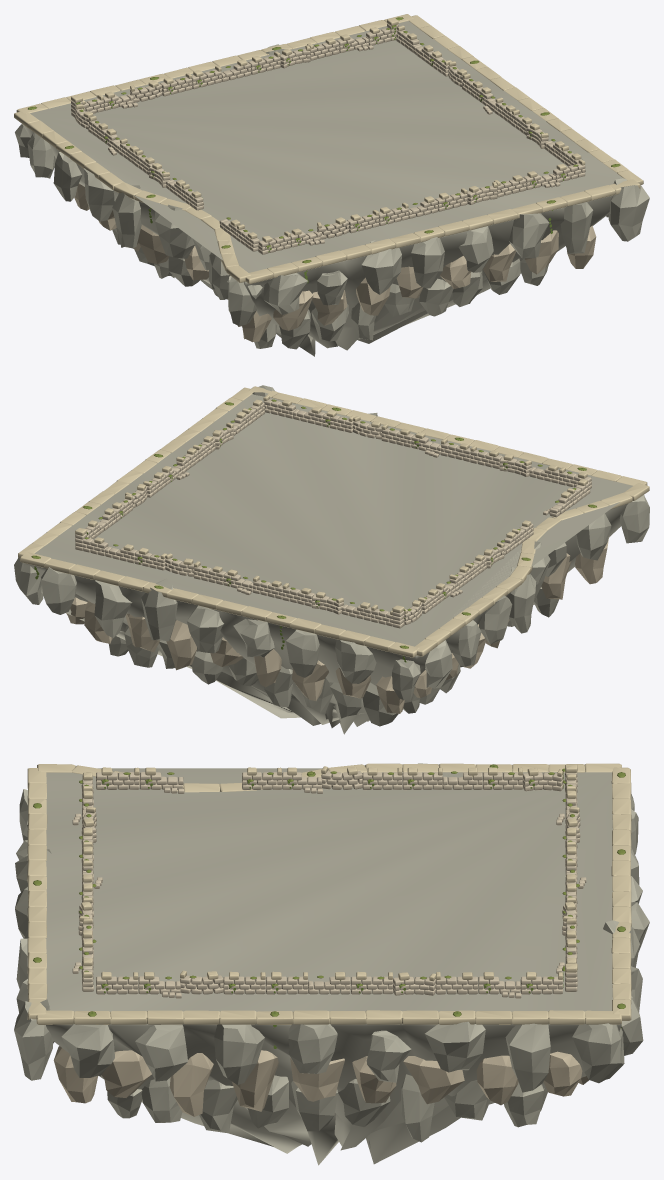
Rendered from boss-island-stonework.glb.
3 renders of one model, top to bottom at view 1: azimuth 30°, elevation 25°; view 2: azimuth 150°, elevation 25°; view 3: azimuth 270°, elevation 25°, orthographic. The views are drawn at different scales.
Parts seen in each view (by area): view 1: island-limestone, island-sandstone (×6), island-capstone (×5); view 2: island-limestone, island-sandstone (×6), island-capstone (×5); view 3: island-limestone, island-sandstone (×6), island-capstone (×5).
Boxes of the visible parts, box(x1,y1,x2,y2) form: island-limestone: box(15, 21, 649, 356); island-sandstone (×6): box(71, 23, 596, 342); island-capstone (×5): box(14, 14, 643, 283); island-limestone: box(14, 385, 649, 734); island-sandstone (×6): box(66, 399, 609, 713); island-capstone (×5): box(18, 386, 649, 657); island-limestone: box(14, 763, 649, 1165); island-sandstone (×6): box(53, 771, 588, 1116); island-capstone (×5): box(27, 763, 631, 1024).
Size of the model in its own units: 54.32 by 26.1 by 54.45.
